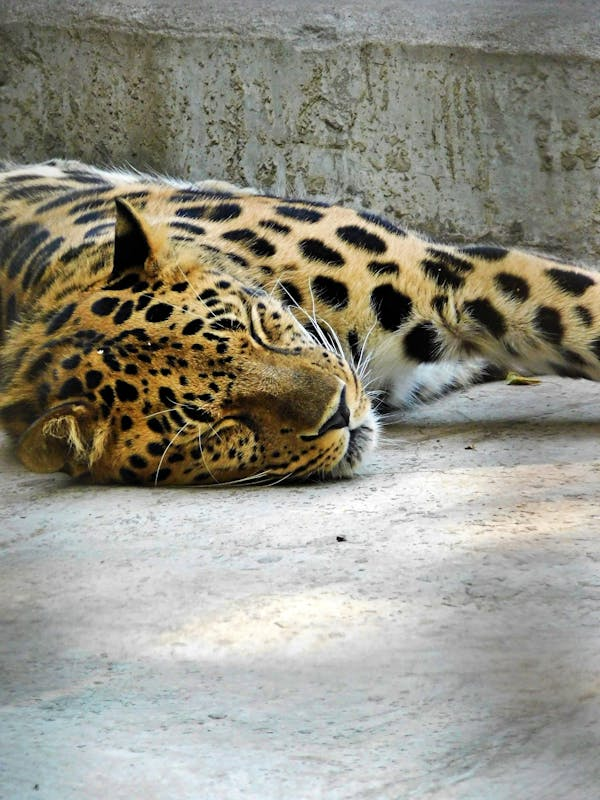Leopard: (2, 156, 600, 489)
